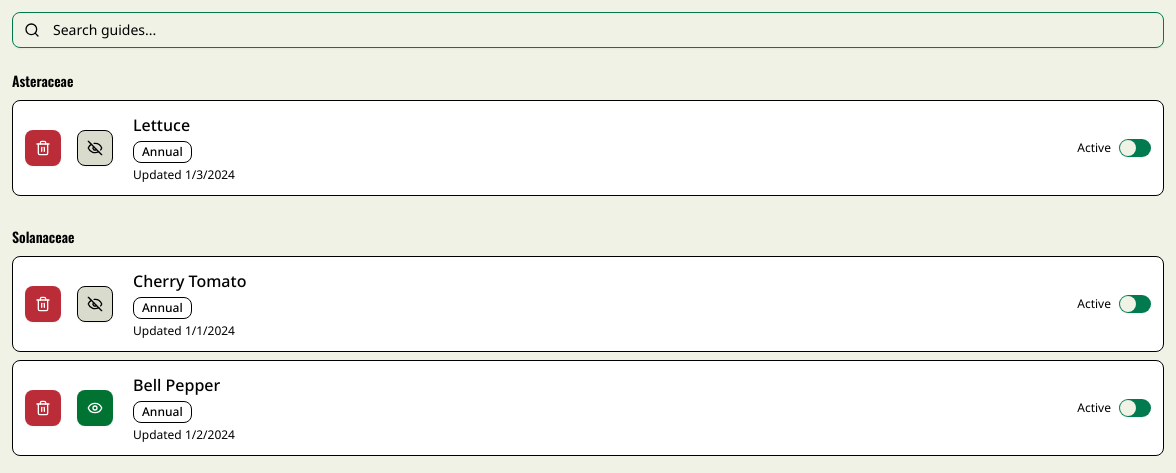
Test case: GrowGuideListPresenter › Search Functionality › clears search when input is emptied
// Type search term
Type "tomato" into the field with placeholder "Search guides..." at x=588, y=30, box [12,12,1164,48]
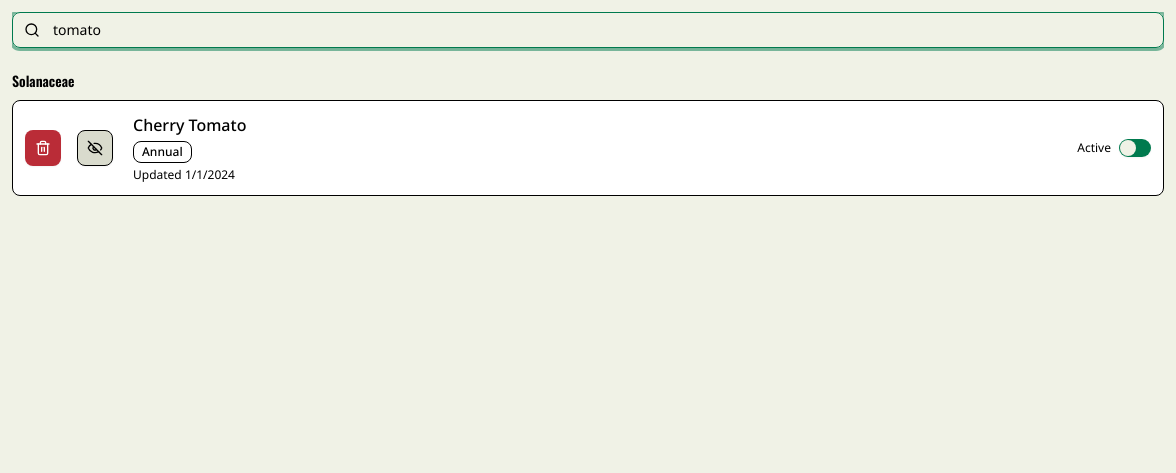
Expected: the button "Bell Pepper" is gone
// Clear search
Clear the field with placeholder "Search guides..." at x=588, y=30, box [12,12,1164,48]
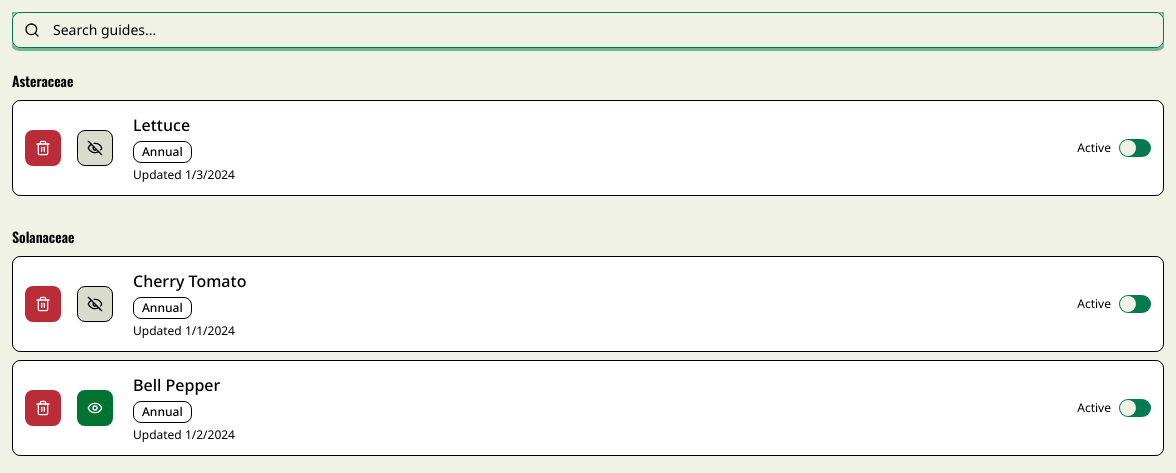
Expected: the text "Bell Pepper" is shown, [133,375,220,395]
Expected: the text "Lettuce" is shown, [133,115,190,135]
